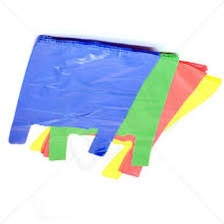plastic_bag: (27, 60, 223, 183), (36, 54, 210, 181), (8, 32, 163, 163), (42, 46, 184, 170)
